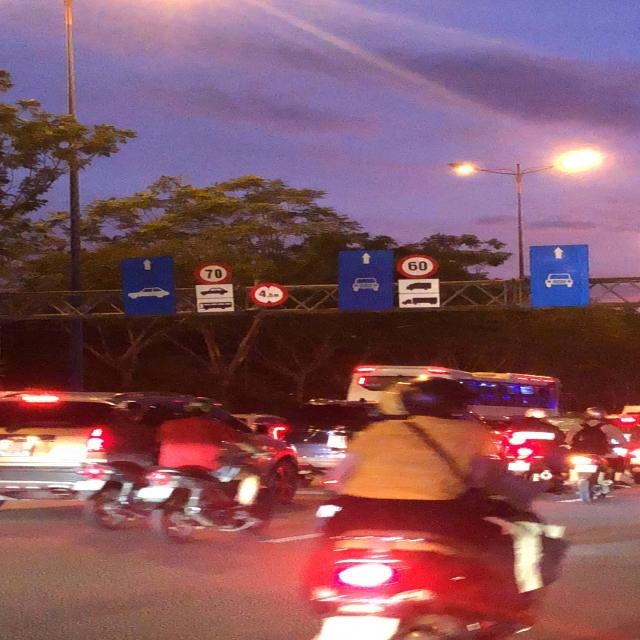Bien bao han che chieu cao: (245, 280, 293, 304)
Bien bao toc do toi da cho phep: (390, 250, 441, 280), (186, 260, 234, 284)
